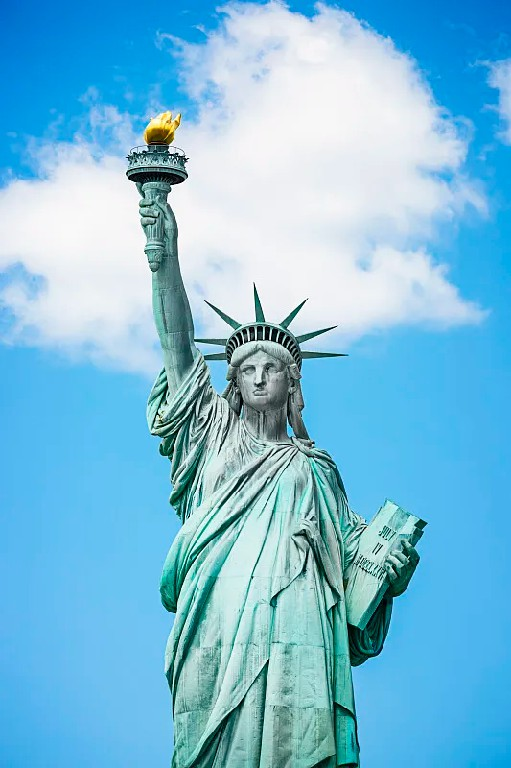SL: (126, 110, 427, 768)
